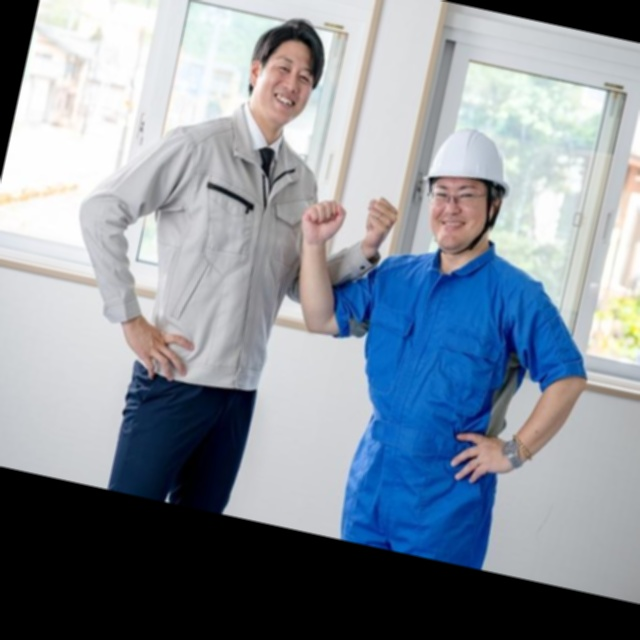Con_Casco: (413, 120, 522, 264)
Sin_Casco_Mascarrilla: (238, 10, 338, 135)
Sin_Chaleco: (121, 114, 324, 396), (339, 238, 545, 483)
